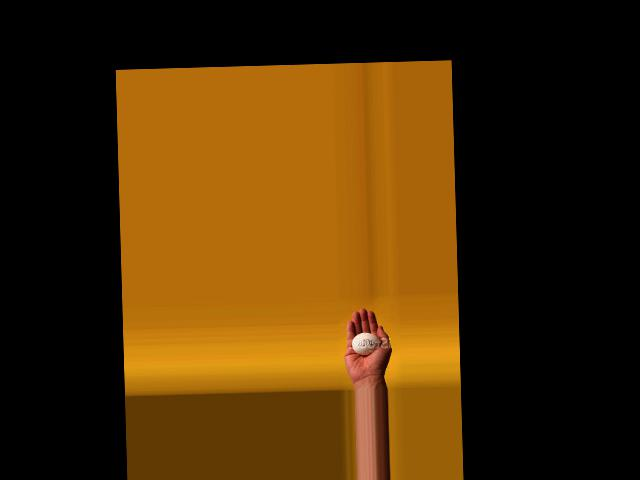egg: (351, 332, 380, 355)
